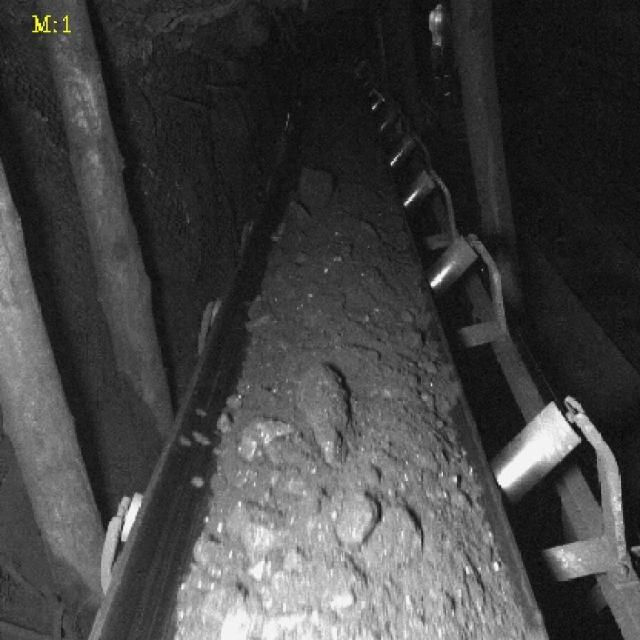large_sized_coal: (295, 354, 351, 466), (371, 503, 423, 555), (235, 412, 291, 460), (228, 506, 284, 552), (295, 161, 337, 217), (334, 492, 374, 545)
